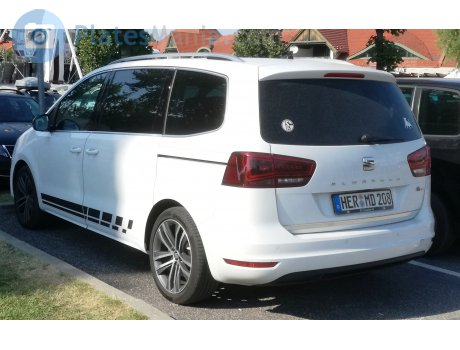License Plates: (331, 194, 399, 204)
